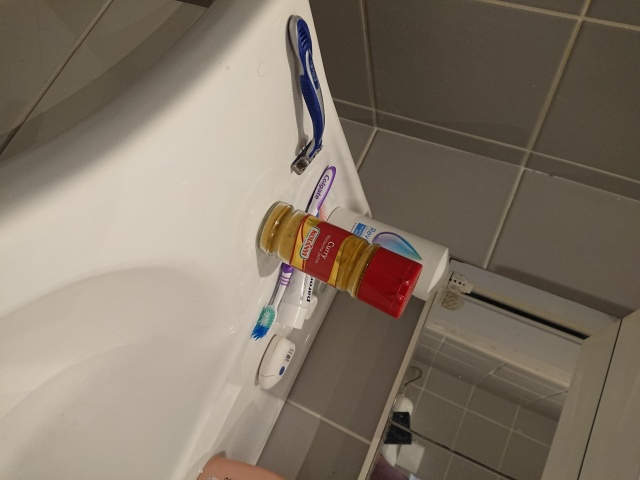Kotanyi Curry Spices Mix 70g: (254, 198, 425, 322)
